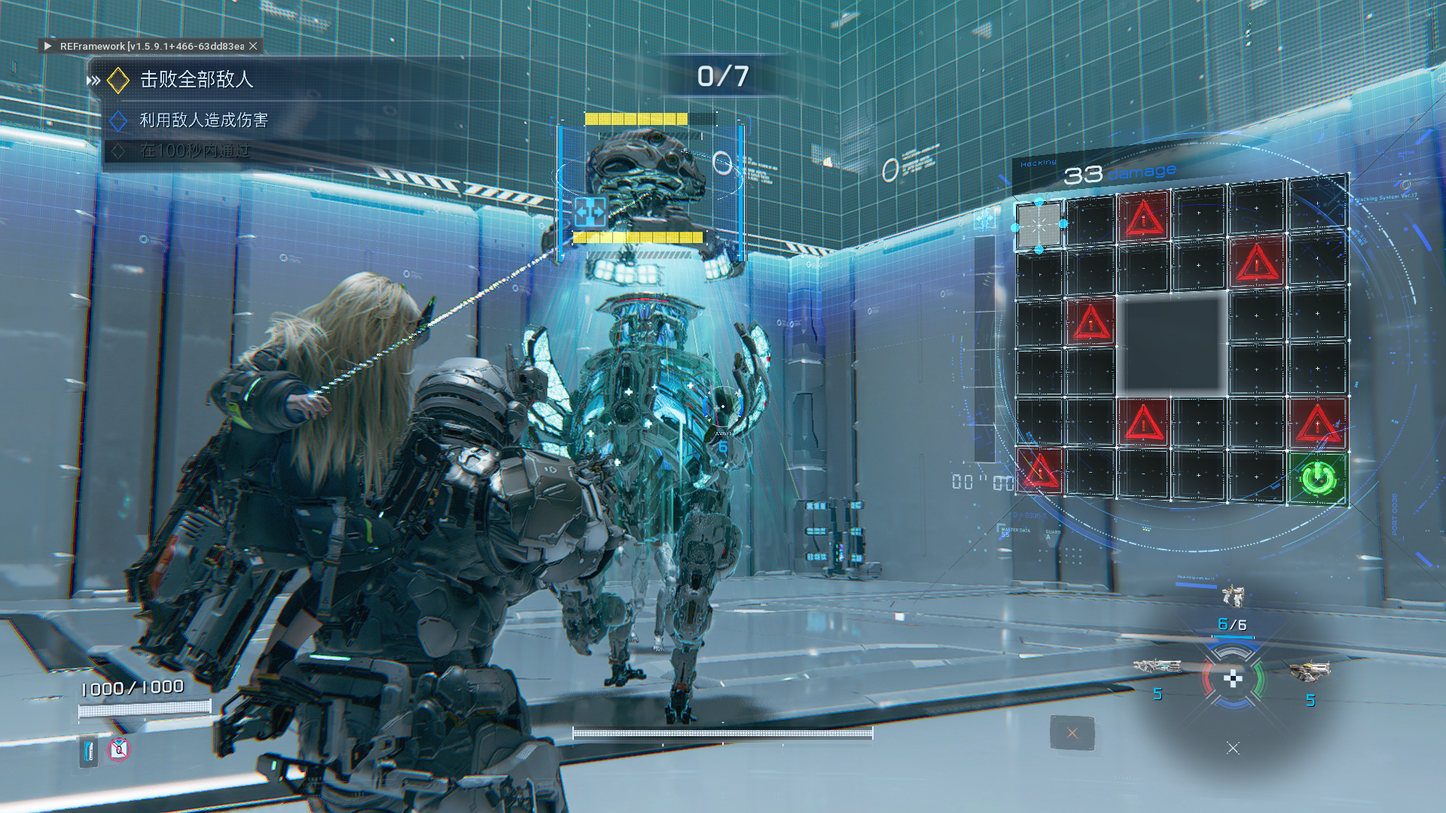puzzle_panel: (1012, 171, 1352, 511)
